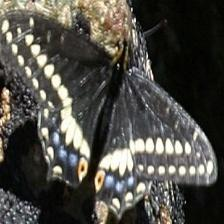butterfly: (1, 14, 218, 224)
